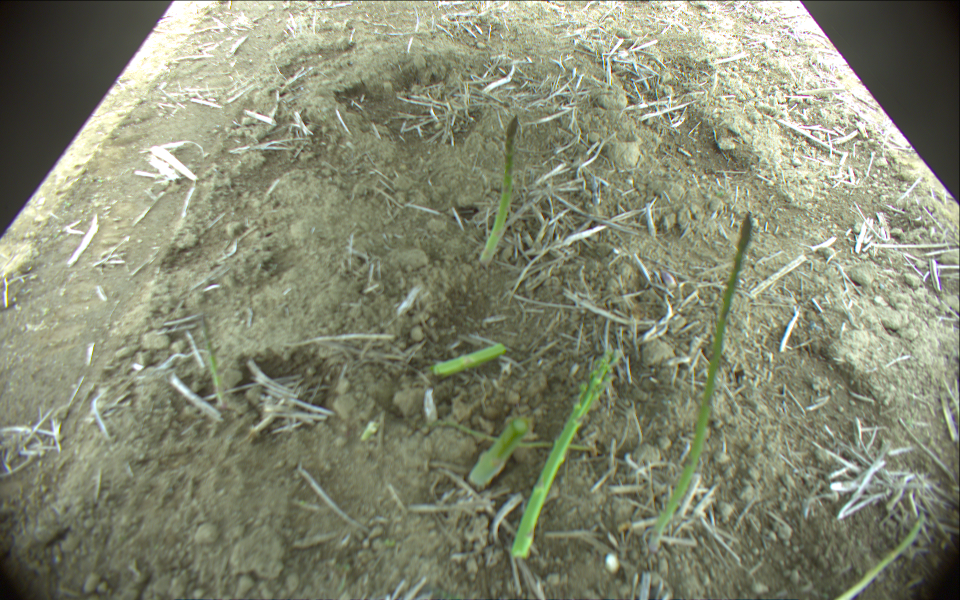aspa: (645, 213, 750, 548), (506, 358, 610, 561), (826, 517, 925, 600), (477, 114, 521, 267), (464, 418, 526, 493), (433, 345, 505, 382)
